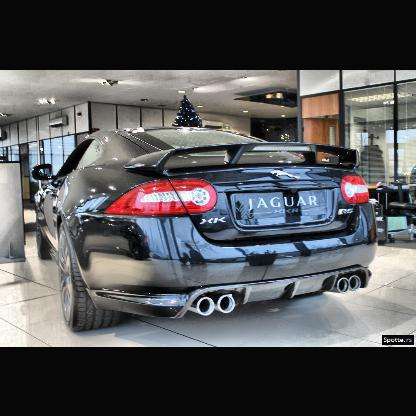Jaguar XK XKR 2012: (34, 127, 380, 334)
